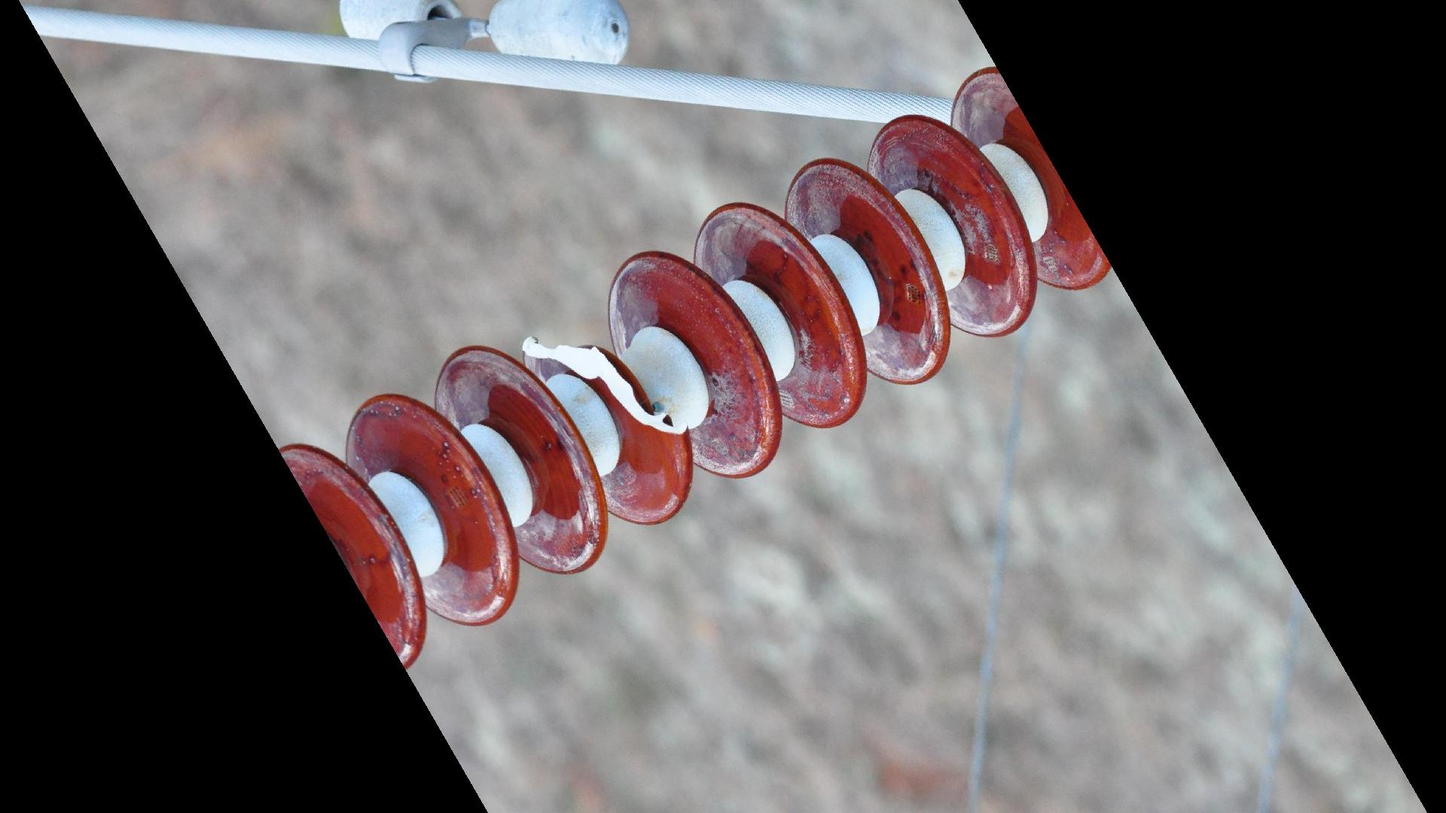insulator: (274, 62, 1118, 677)
insulator_breakage: (513, 324, 694, 455)
